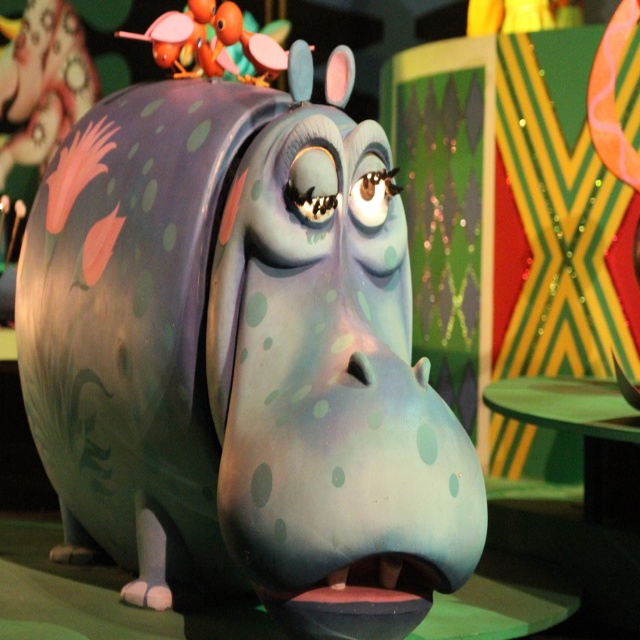Hippopotamus: (13, 38, 490, 639), (16, 40, 488, 639)
